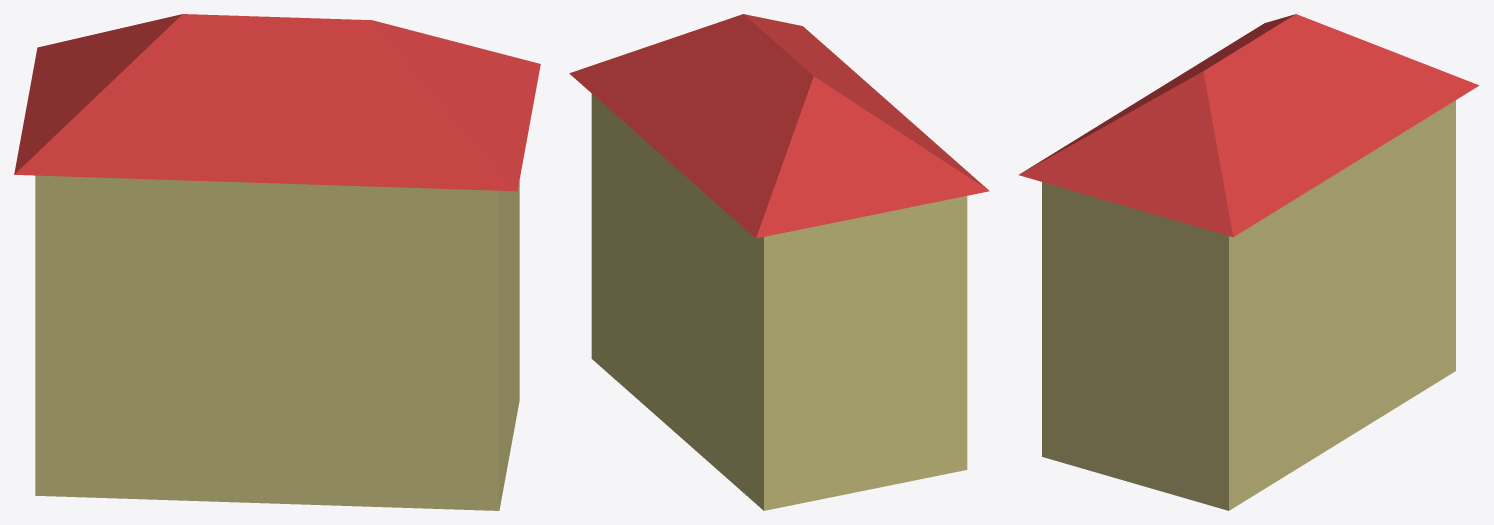
3 renders of one model, left to right at view 1: azimuth 30°, elevation 25°; view 2: azimuth 150°, elevation 25°; view 3: azimuth 270°, elevation 25°, orthographic. The views are drawn at different scales.
Parts seen in each view (by area): view 1: group_5, group_3, group_4; view 2: group_5, group_3, group_4; view 3: group_5, group_3, group_4.
Part boxes in pixels (box(x1,y1,x2,y2)): group_5: box(35, 175, 519, 510); group_3: box(14, 14, 540, 191); group_4: box(14, 43, 529, 191); group_5: box(591, 94, 967, 510); group_3: box(569, 14, 989, 238); group_4: box(695, 28, 988, 237); group_5: box(1042, 100, 1455, 510); group_3: box(1019, 14, 1478, 237); group_4: box(1037, 22, 1479, 229).
Size of the model in its own units: 22.38 by 20.37 by 18.1.
